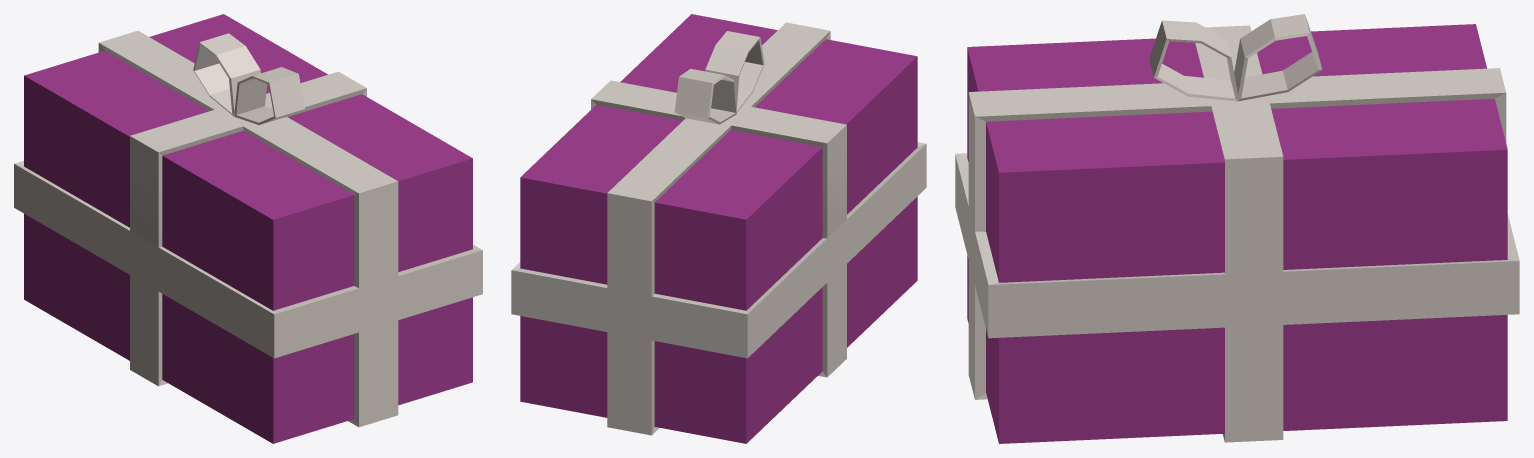
The model's file is Present_01.glb.
3 views of the same model, side by side, from view 1: azimuth 30°, elevation 25°; view 2: azimuth 150°, elevation 25°; view 3: azimuth 270°, elevation 25° (orthographic). The views are drawn at different scales.
Parts seen in each view (by area): view 1: Present_02; view 2: Present_02; view 3: Present_02.
Part boxes in pixels (left/top/right/bottom): Present_02: left=14, top=14, right=482, bottom=443; Present_02: left=511, top=14, right=926, bottom=443; Present_02: left=955, top=14, right=1519, bottom=443.
Size of the model in its own units: 0.2734 by 0.2866 by 0.4199.
Materials: 1 (1 with a texture image).
